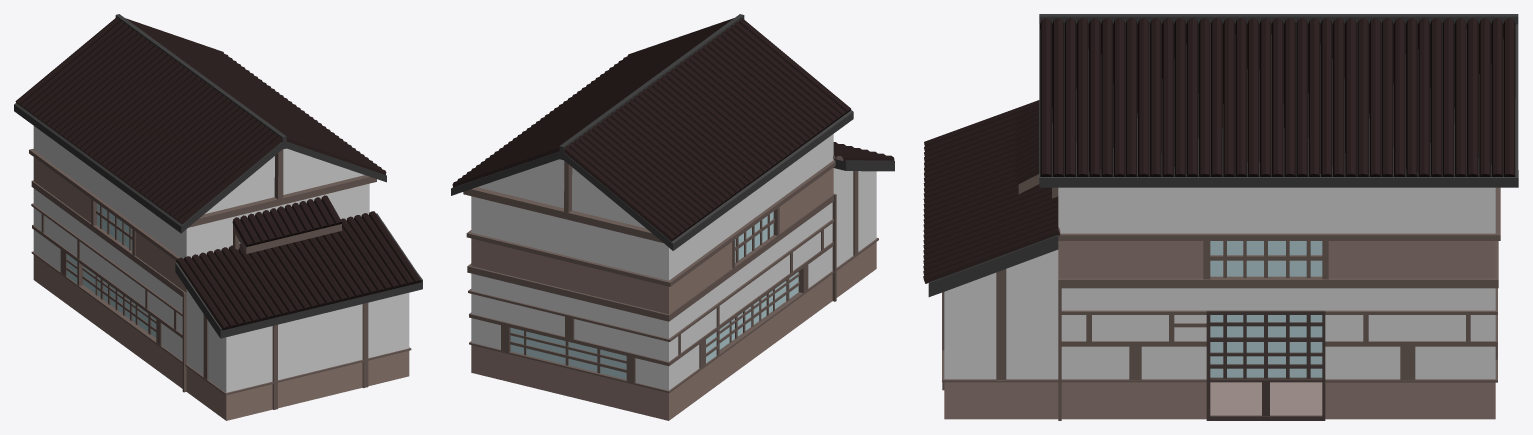
File: Luna_huisjapan2.fbx
3 views of the same model, side by side, from view 1: azimuth 30°, elevation 25°; view 2: azimuth 150°, elevation 25°; view 3: azimuth 270°, elevation 25° (orthographic). The views are drawn at different scales.
Visible parts, largest first — view 1: dak, house, dak.001, house.002, house.001, window frame, house side, balk om housw, balk roof, house.003, window, balk 3 (+1 smaller); view 2: dak, house, house.001, house side, dak.001, window frame, balk om housw, window, balk 3, balk roof, balk 2, house.002 (+1 smaller); view 3: dak, house, dak.001, house.001, house side, balk om housw, door frame, balk 3, door window, house.002, door board, balk 2 (+3 smaller).
Boxes of the visible parts, x1=… form: dak: x1=15, y1=17, x2=421, y2=330; house: x1=33, y1=126, x2=409, y2=392; dak.001: x1=14, y1=14, x2=422, y2=338; house.002: x1=186, y1=351, x2=409, y2=420; house.001: x1=33, y1=255, x2=182, y2=388; window frame: x1=60, y1=194, x2=341, y2=345; house side: x1=33, y1=157, x2=186, y2=292; balk om housw: x1=31, y1=180, x2=186, y2=392; balk roof: x1=188, y1=149, x2=376, y2=227; house.003: x1=185, y1=303, x2=411, y2=409; window: x1=67, y1=203, x2=156, y2=337; balk 3: x1=31, y1=203, x2=182, y2=338; dak: x1=452, y1=18, x2=894, y2=241; house: x1=471, y1=134, x2=876, y2=390; house.001: x1=471, y1=274, x2=832, y2=420; house side: x1=471, y1=167, x2=833, y2=314; dak.001: x1=451, y1=14, x2=894, y2=250; window frame: x1=501, y1=154, x2=843, y2=382; balk om housw: x1=467, y1=194, x2=836, y2=393; window: x1=510, y1=211, x2=798, y2=379; balk 3: x1=468, y1=219, x2=834, y2=366; balk roof: x1=463, y1=161, x2=662, y2=242; balk 2: x1=466, y1=160, x2=835, y2=286; house.002: x1=836, y1=242, x2=876, y2=297; dak: x1=923, y1=18, x2=1515, y2=283; house: x1=944, y1=187, x2=1495, y2=379; dak.001: x1=928, y1=14, x2=1518, y2=296; house.001: x1=1061, y1=382, x2=1495, y2=419; house side: x1=1058, y1=241, x2=1495, y2=277; balk om housw: x1=1006, y1=241, x2=1498, y2=420; door frame: x1=1206, y1=310, x2=1325, y2=420; balk 3: x1=1061, y1=288, x2=1497, y2=379; door window: x1=1210, y1=315, x2=1322, y2=377; house.002: x1=944, y1=382, x2=1058, y2=419; door board: x1=1210, y1=382, x2=1322, y2=415; balk 2: x1=1058, y1=187, x2=1500, y2=279.
Size of the model in its own units: 6.73 by 7.41 by 11.75.
